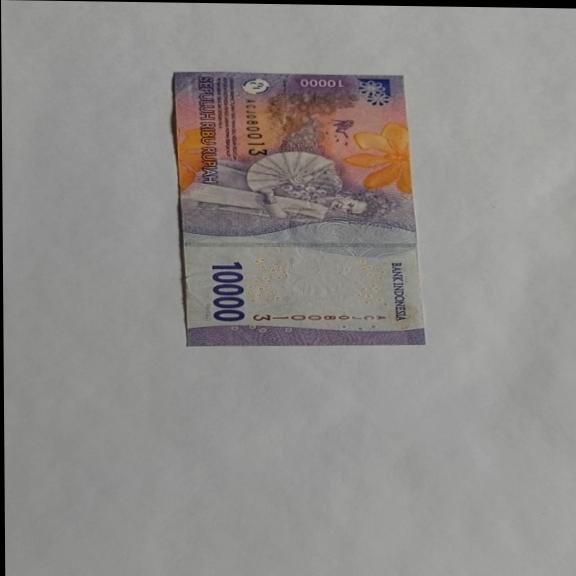Kertas: (170, 70, 427, 350), (210, 261, 247, 322)
